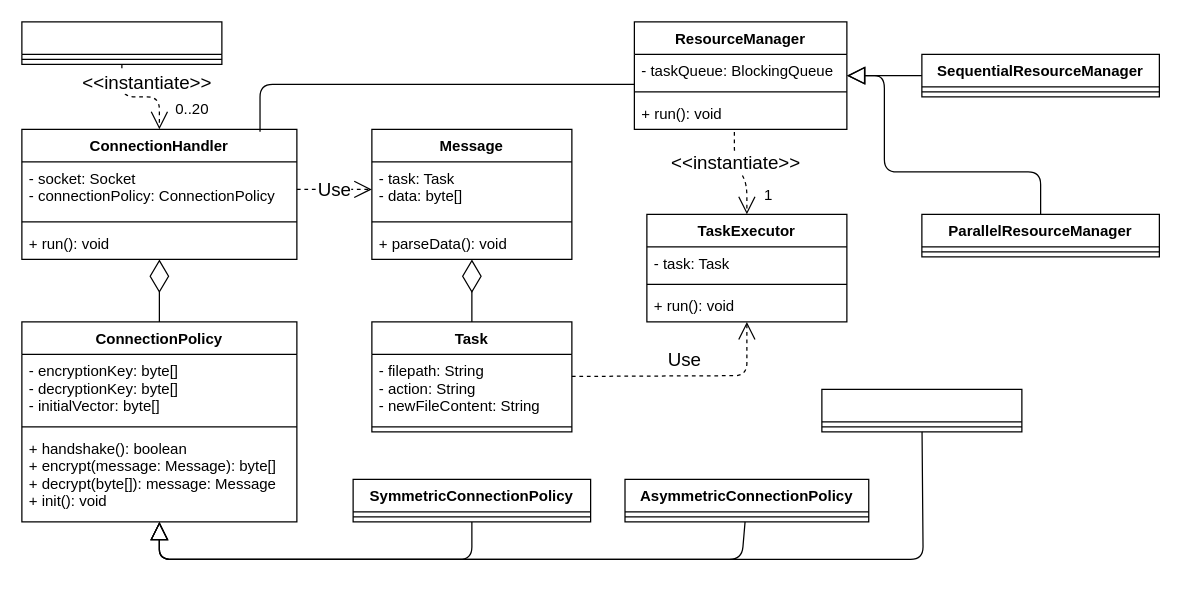
Some shapes in this 1181 by 599 pixel diagram are drawn without their labels. Here are the shapes that lost their labels. From the top down, the centre of each, then its label:
pixel 121 42: CertifiedAuthority
pixel 921 410: HybridConnectionPolicy
